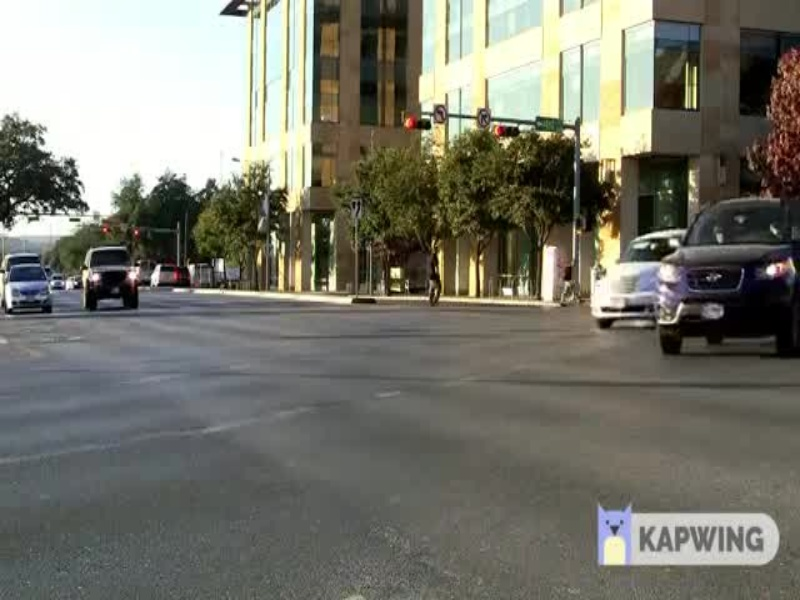car: (648, 190, 800, 361), (73, 242, 141, 319), (3, 261, 62, 319)
